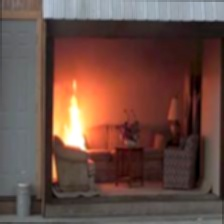fire: (52, 78, 90, 141)
